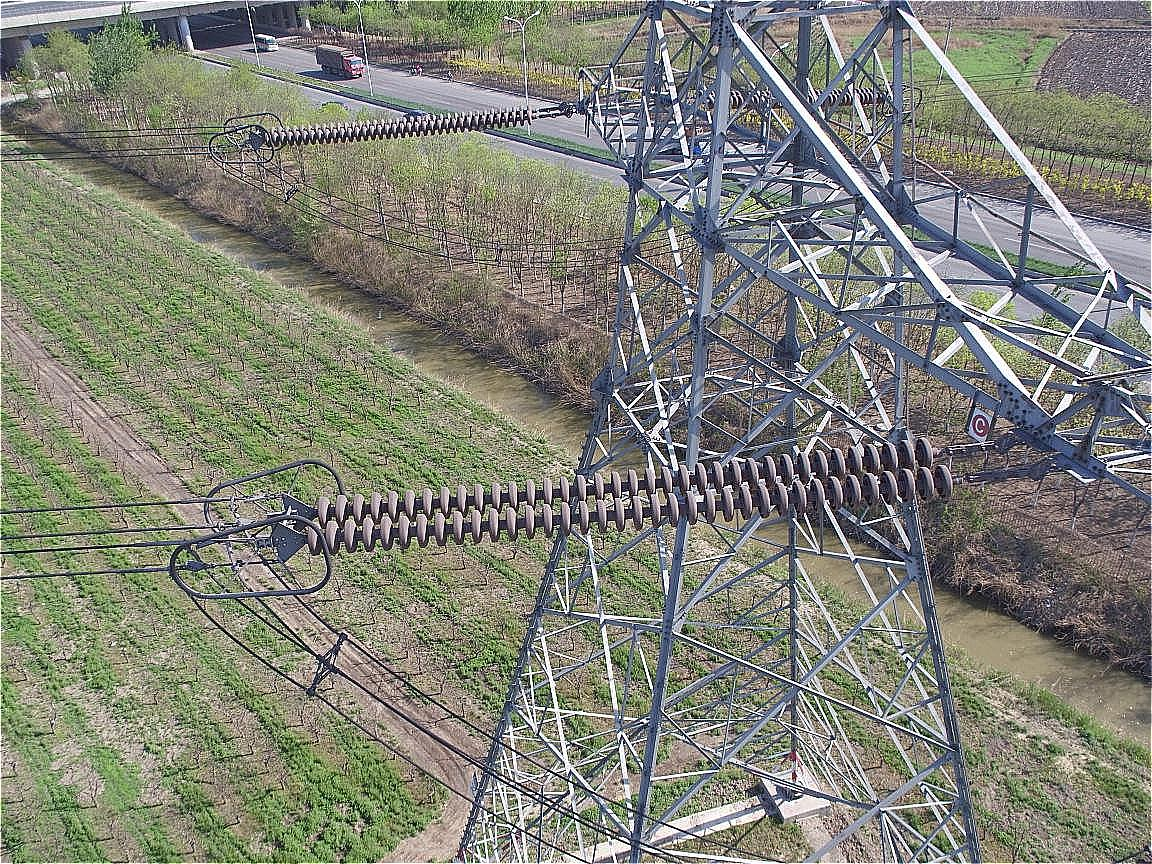insultor1: (256, 429, 969, 579)
